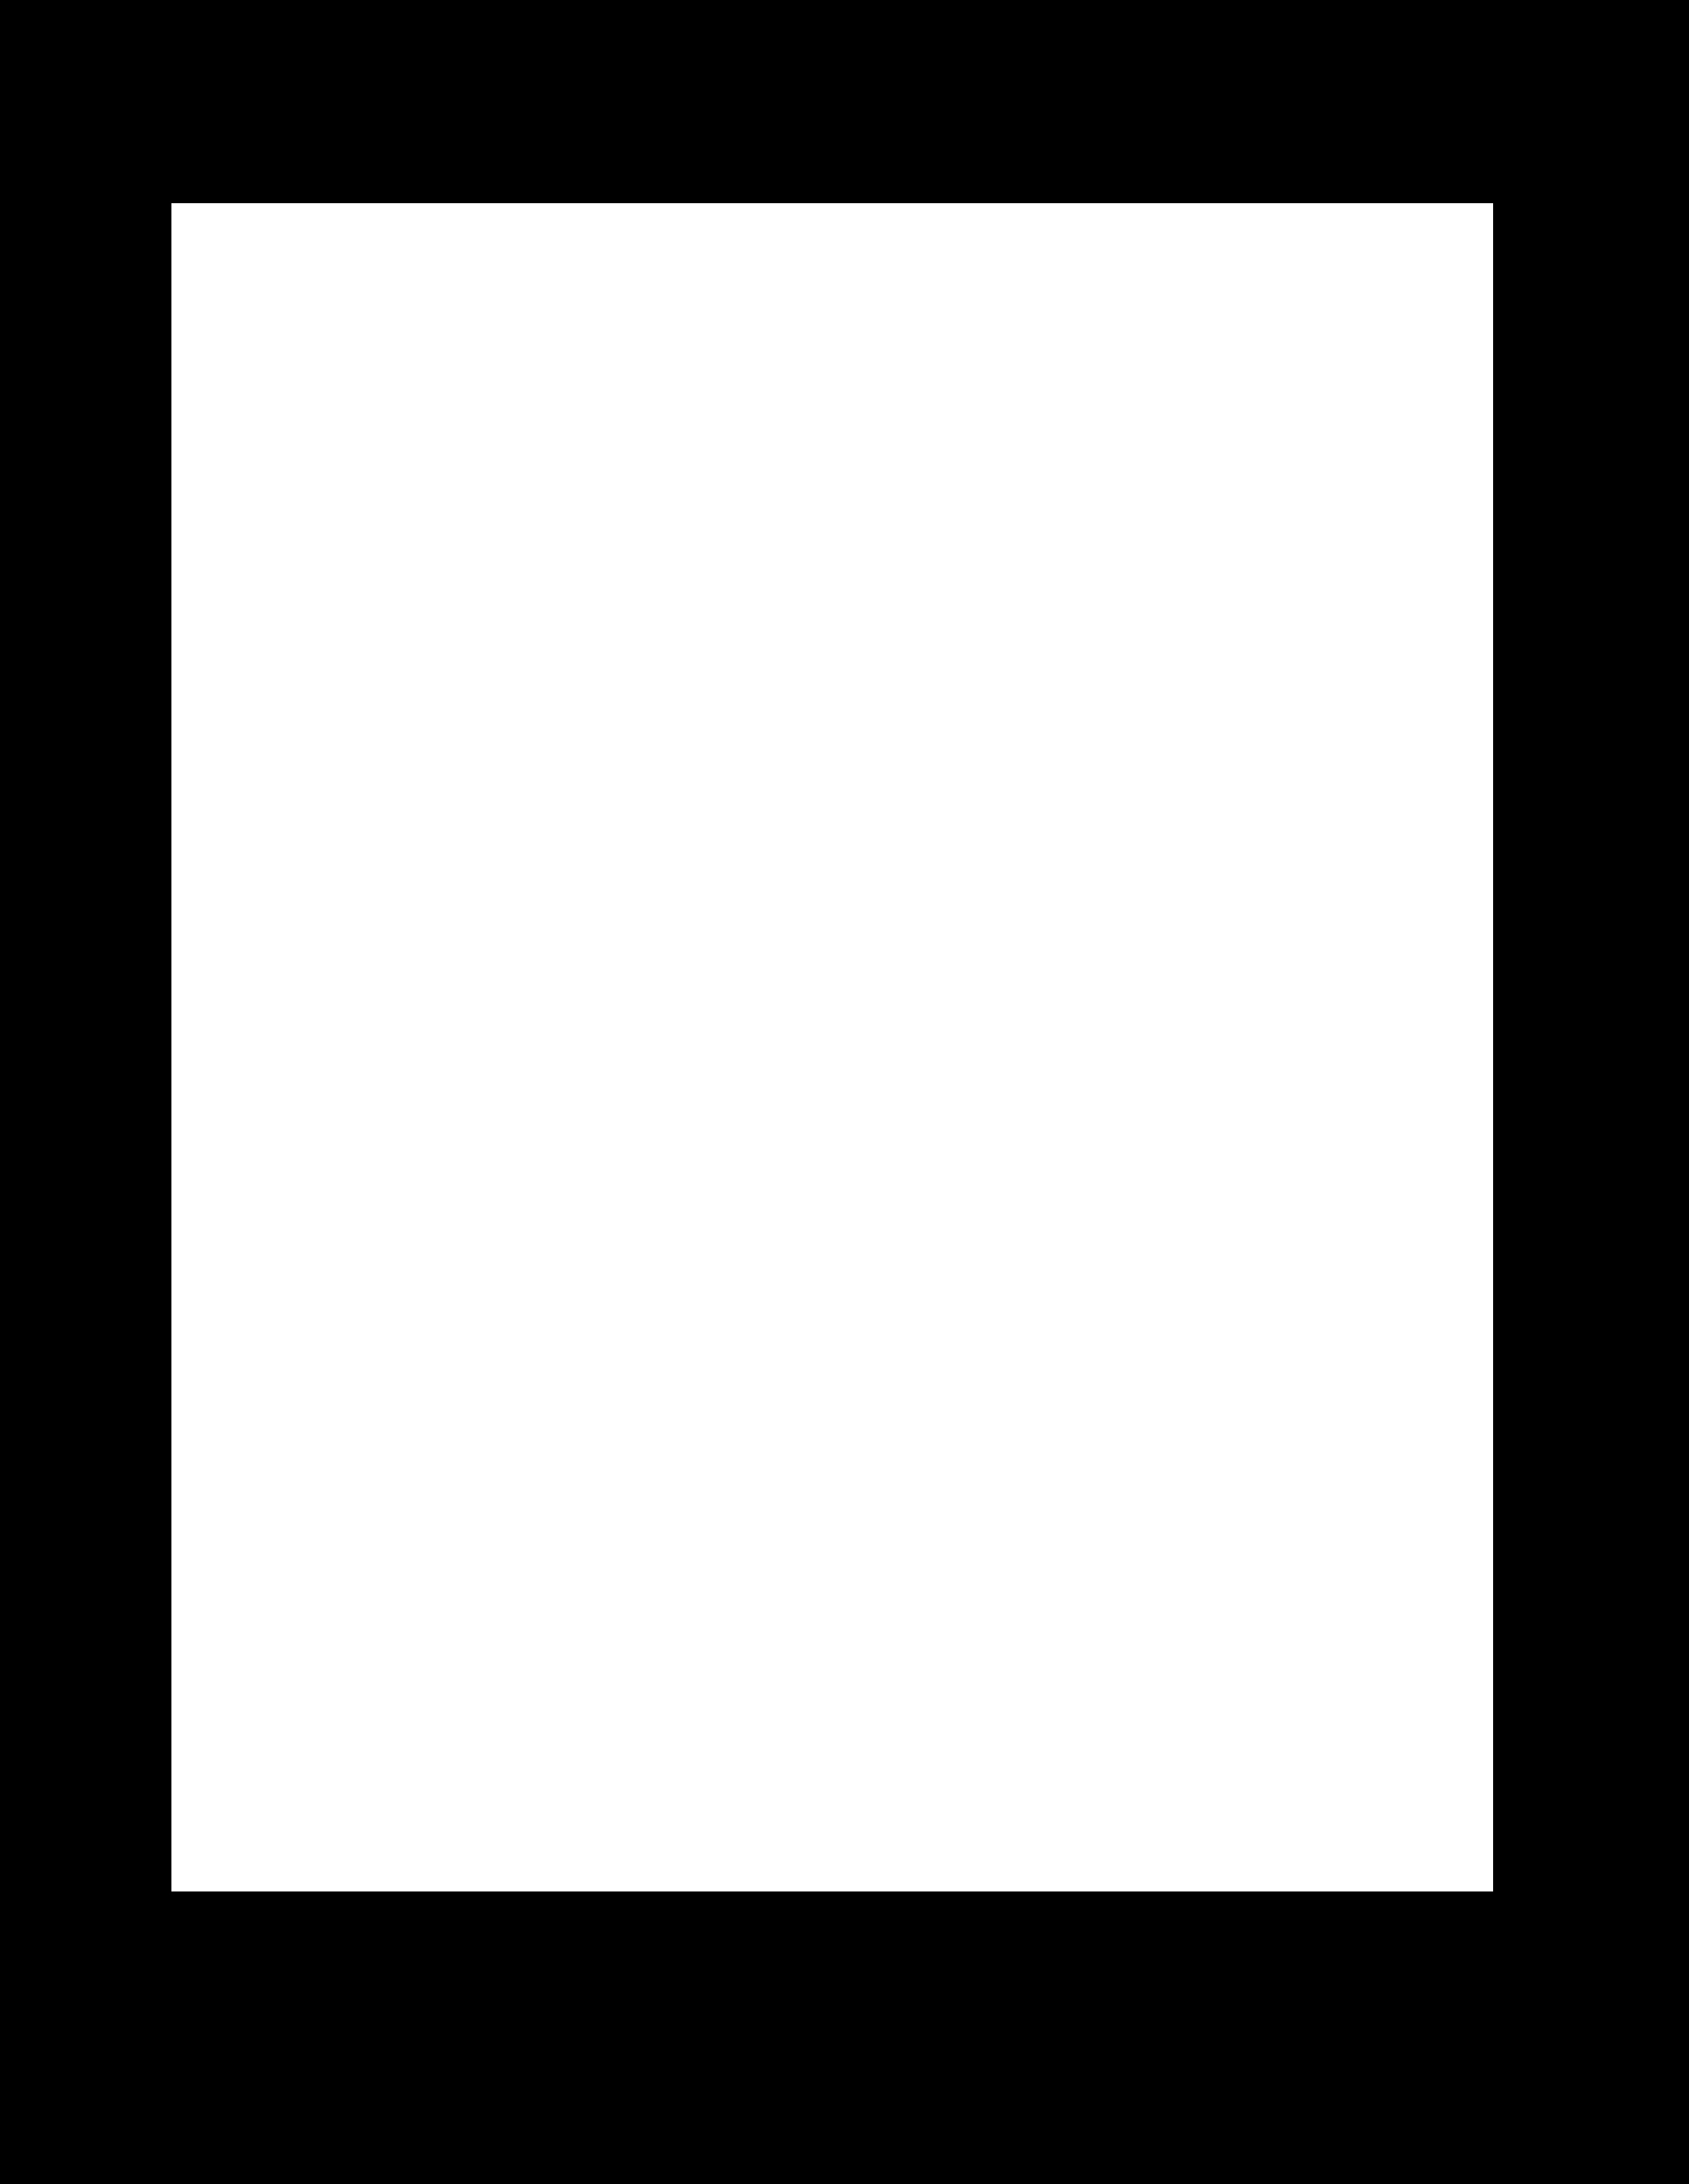table: (172, 204, 1492, 1891)
